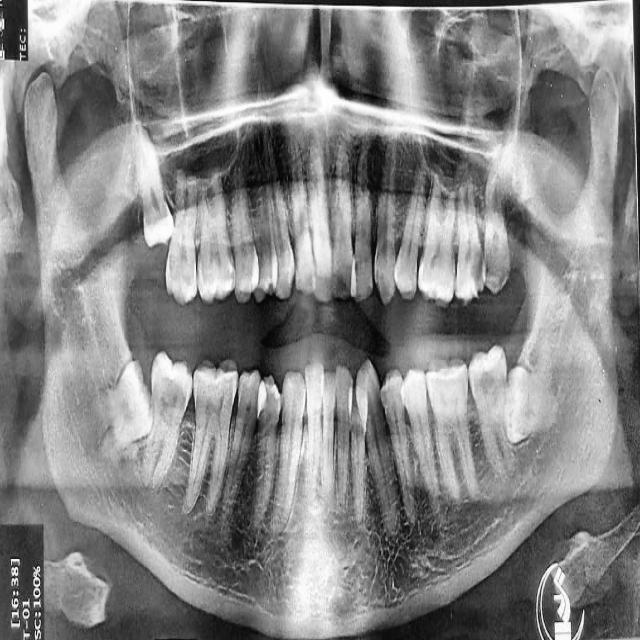karies: (256, 380, 288, 420), (467, 258, 500, 292)
